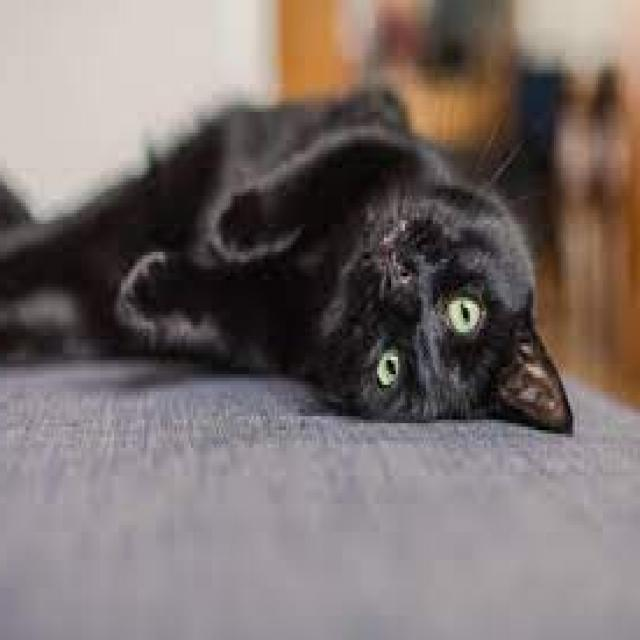black cat: (0, 19, 600, 448)
